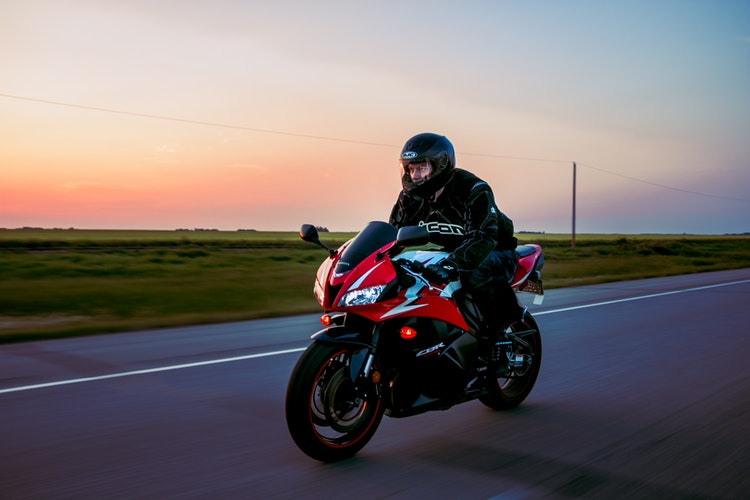helmet: (396, 122, 462, 193)
